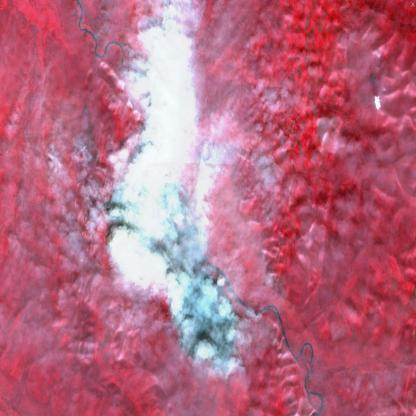fire: (105, 218, 246, 384)
